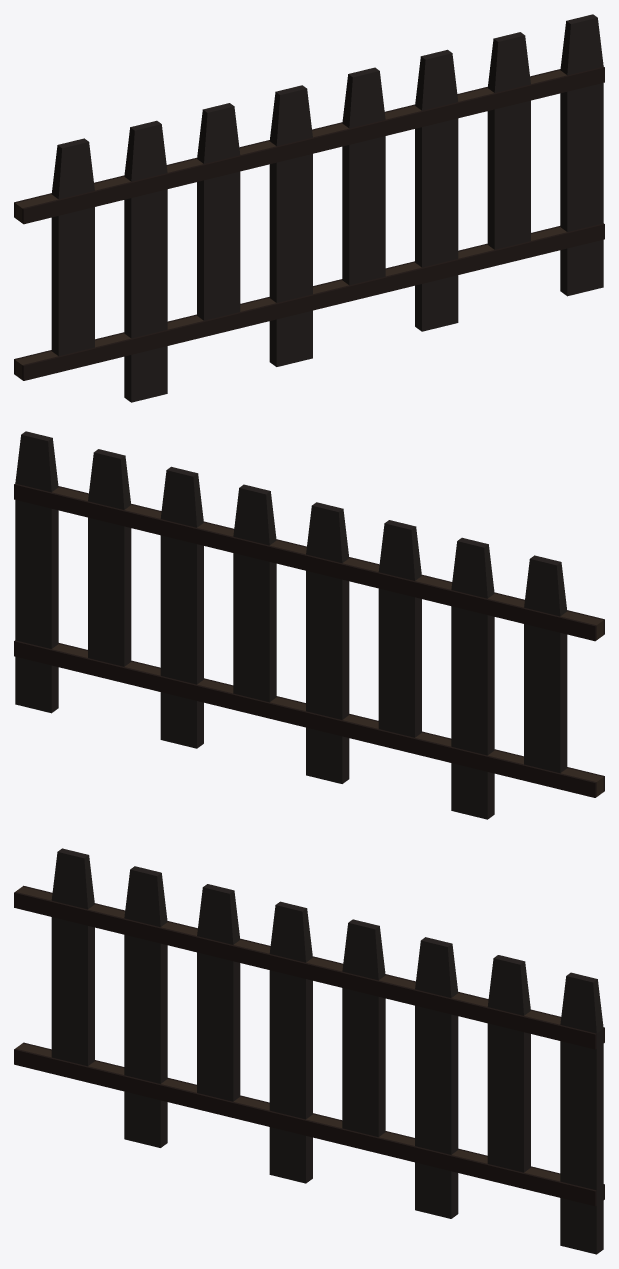
Rendered from FenceGate.FBX.
The picture shows the model from 3 angles, top to bottom: view 1: azimuth 30°, elevation 25°; view 2: azimuth 150°, elevation 25°; view 3: azimuth 330°, elevation 25°; orthographic projection.
Visible parts, largest first — view 1: Box001; view 2: Box001; view 3: Box001.
Part boxes in pixels (<box>): Box001: <box>14,14,604,402</box>; Box001: <box>14,431,604,819</box>; Box001: <box>14,848,604,1254</box>.
Bounding box in the file's own units: 124 × 55 × 3.54.
